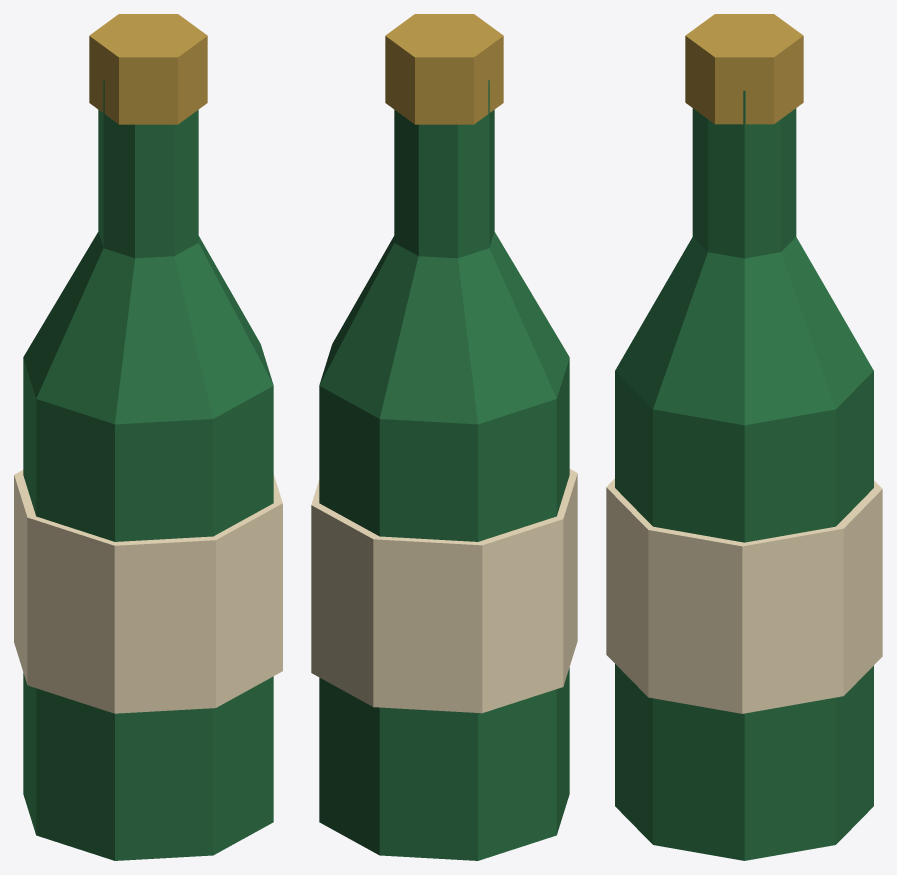
The model's file is bottle.fbx.
The picture shows the model from 3 angles, left to right: view 1: azimuth 30°, elevation 25°; view 2: azimuth 150°, elevation 25°; view 3: azimuth 270°, elevation 25°; orthographic projection.
Parts seen in each view (by area): view 1: bottle; view 2: bottle; view 3: bottle.
Boxes of the visible parts, x1,y1,x2,y2 form: bottle: (14, 14, 282, 860); bottle: (311, 14, 577, 860); bottle: (606, 14, 882, 860).
Bounding box in the file's own units: 0.2991 × 0.92 × 0.2991.
